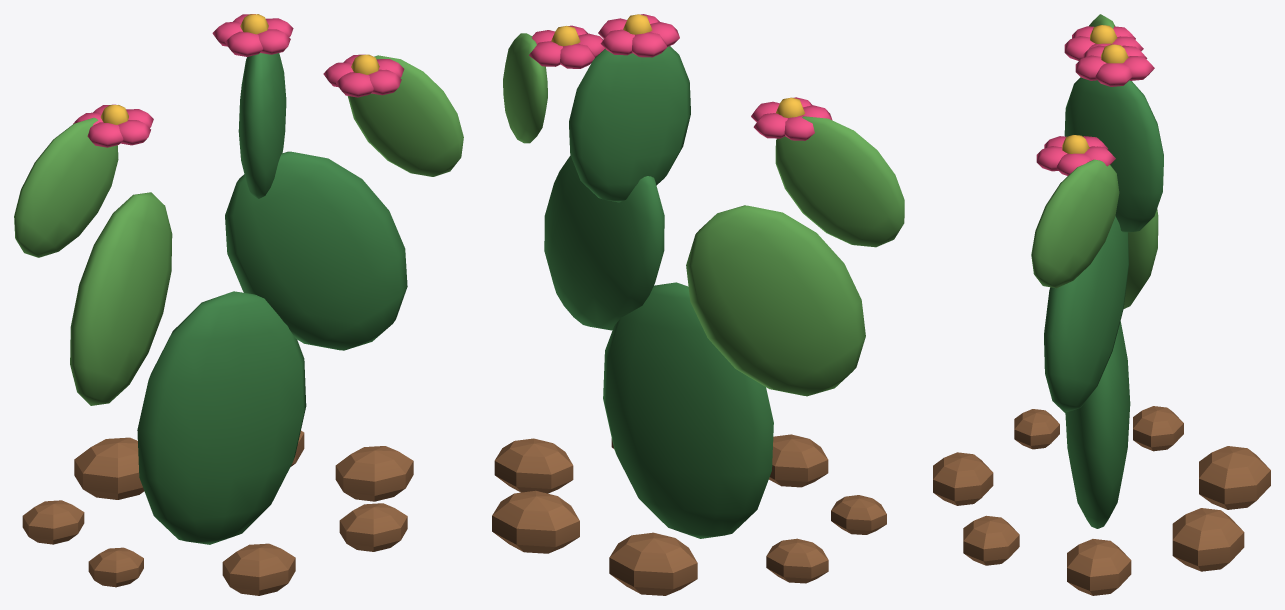
The model's file is desert_prickly.glb.
The picture shows the model from 3 angles, left to right: view 1: azimuth 30°, elevation 25°; view 2: azimuth 150°, elevation 25°; view 3: azimuth 270°, elevation 25°; orthographic projection. The views are drawn at different scales.
Visible parts, largest first — view 1: D_Prickly__D_green, D_Prickly__D_greenl, D_Prickly__D_s3, D_Prickly__D_pink, D_Prickly__D_gold; view 2: D_Prickly__D_green, D_Prickly__D_greenl, D_Prickly__D_s3, D_Prickly__D_pink, D_Prickly__D_gold; view 3: D_Prickly__D_green, D_Prickly__D_s3, D_Prickly__D_greenl, D_Prickly__D_pink, D_Prickly__D_gold.
Part boxes in pixels (<box>): D_Prickly__D_green: <box>137,53,407,544</box>; D_Prickly__D_greenl: <box>14,55,463,405</box>; D_Prickly__D_s3: <box>22,430,413,595</box>; D_Prickly__D_pink: <box>73,14,404,147</box>; D_Prickly__D_gold: <box>100,14,379,124</box>; D_Prickly__D_green: <box>544,46,773,538</box>; D_Prickly__D_greenl: <box>503,33,904,396</box>; D_Prickly__D_s3: <box>492,434,886,595</box>; D_Prickly__D_pink: <box>529,14,832,140</box>; D_Prickly__D_gold: <box>551,14,804,117</box>; D_Prickly__D_green: <box>1044,77,1163,528</box>; D_Prickly__D_s3: <box>933,406,1270,595</box>; D_Prickly__D_greenl: <box>1031,14,1158,308</box>; D_Prickly__D_pink: <box>1036,26,1154,175</box>; D_Prickly__D_gold: <box>1062,25,1128,153</box>.
Bounding box in the file's own units: 1.71 × 1.98 × 1.21.
